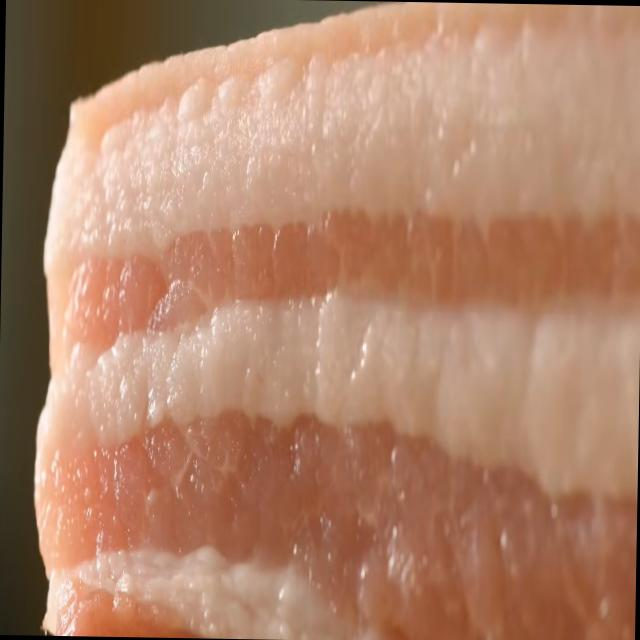pork: (24, 65, 640, 640)
